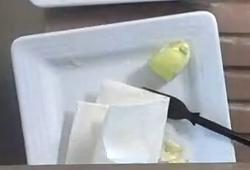fruit: (147, 41, 190, 81)
